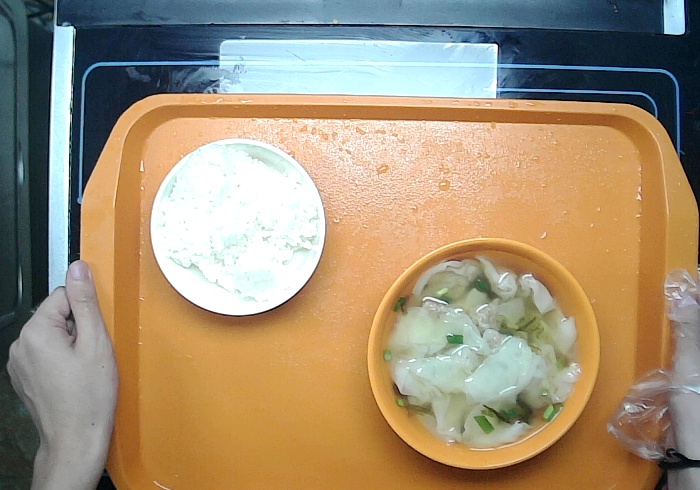NLDX-Fan_Wan: (142, 132, 332, 326)
NLDX-Hun_Tun_Wan: (360, 231, 610, 477)
